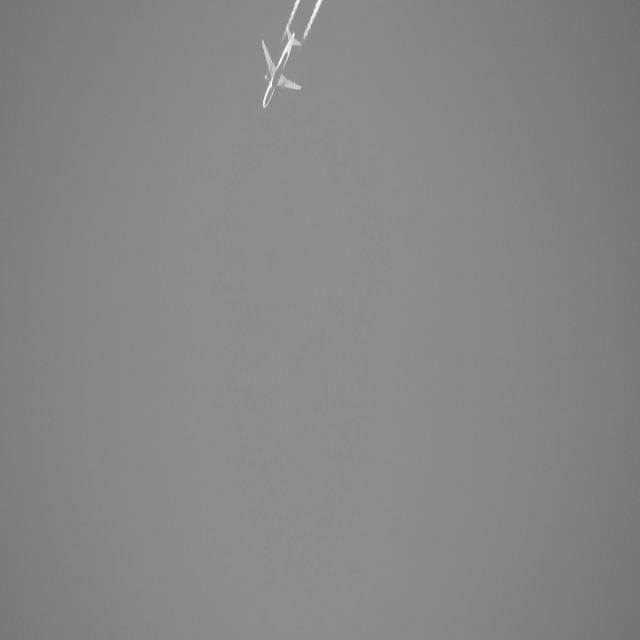aeroplane: (257, 29, 304, 114)
